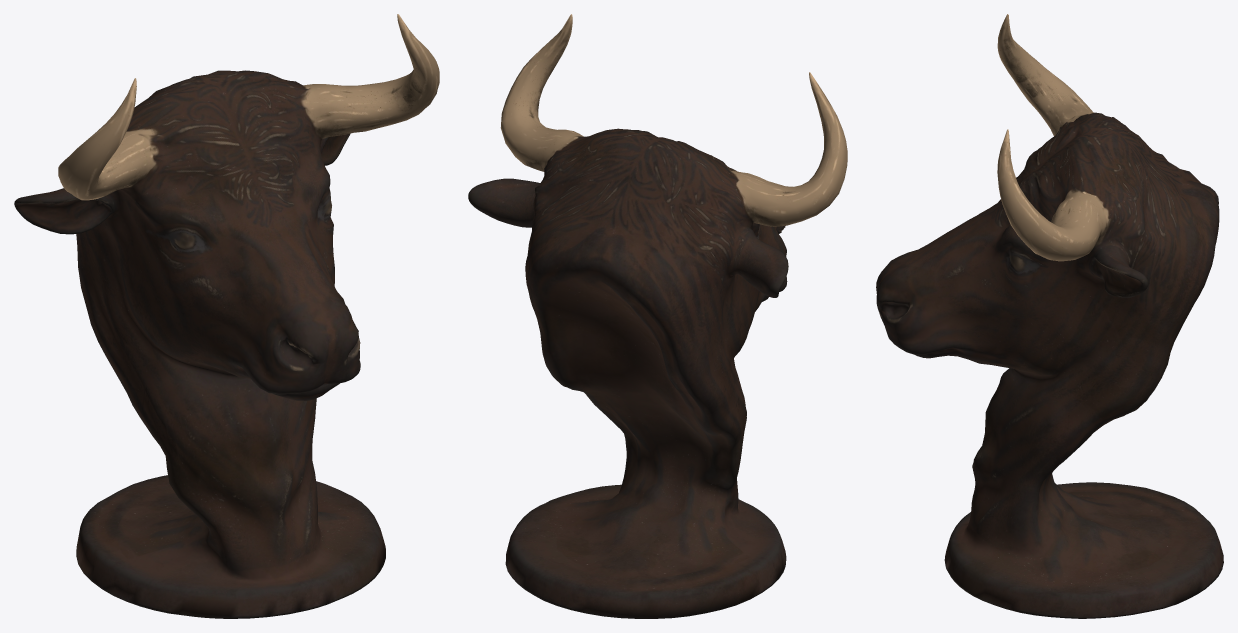
Rendered from bull_head.glb.
3 renders of one model, left to right at view 1: azimuth 30°, elevation 25°; view 2: azimuth 150°, elevation 25°; view 3: azimuth 270°, elevation 25°, orthographic. The views are drawn at different scales.
Visible parts, largest first — view 1: bull_head; view 2: bull_head; view 3: bull_head.
Boxes of the visible parts, x1=… form: bull_head: x1=14, y1=14, x2=439, y2=618; bull_head: x1=468, y1=14, x2=847, y2=618; bull_head: x1=876, y1=14, x2=1223, y2=618.
Bounding box in the file's own units: 0.3063 × 0.433 × 0.2808.
1 material, 1 textured.
